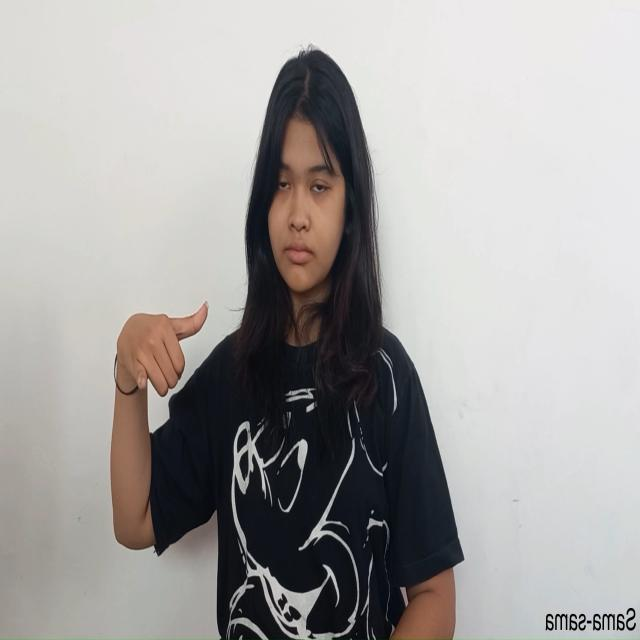Sama-sama -BISINDO-: (112, 296, 210, 403)
